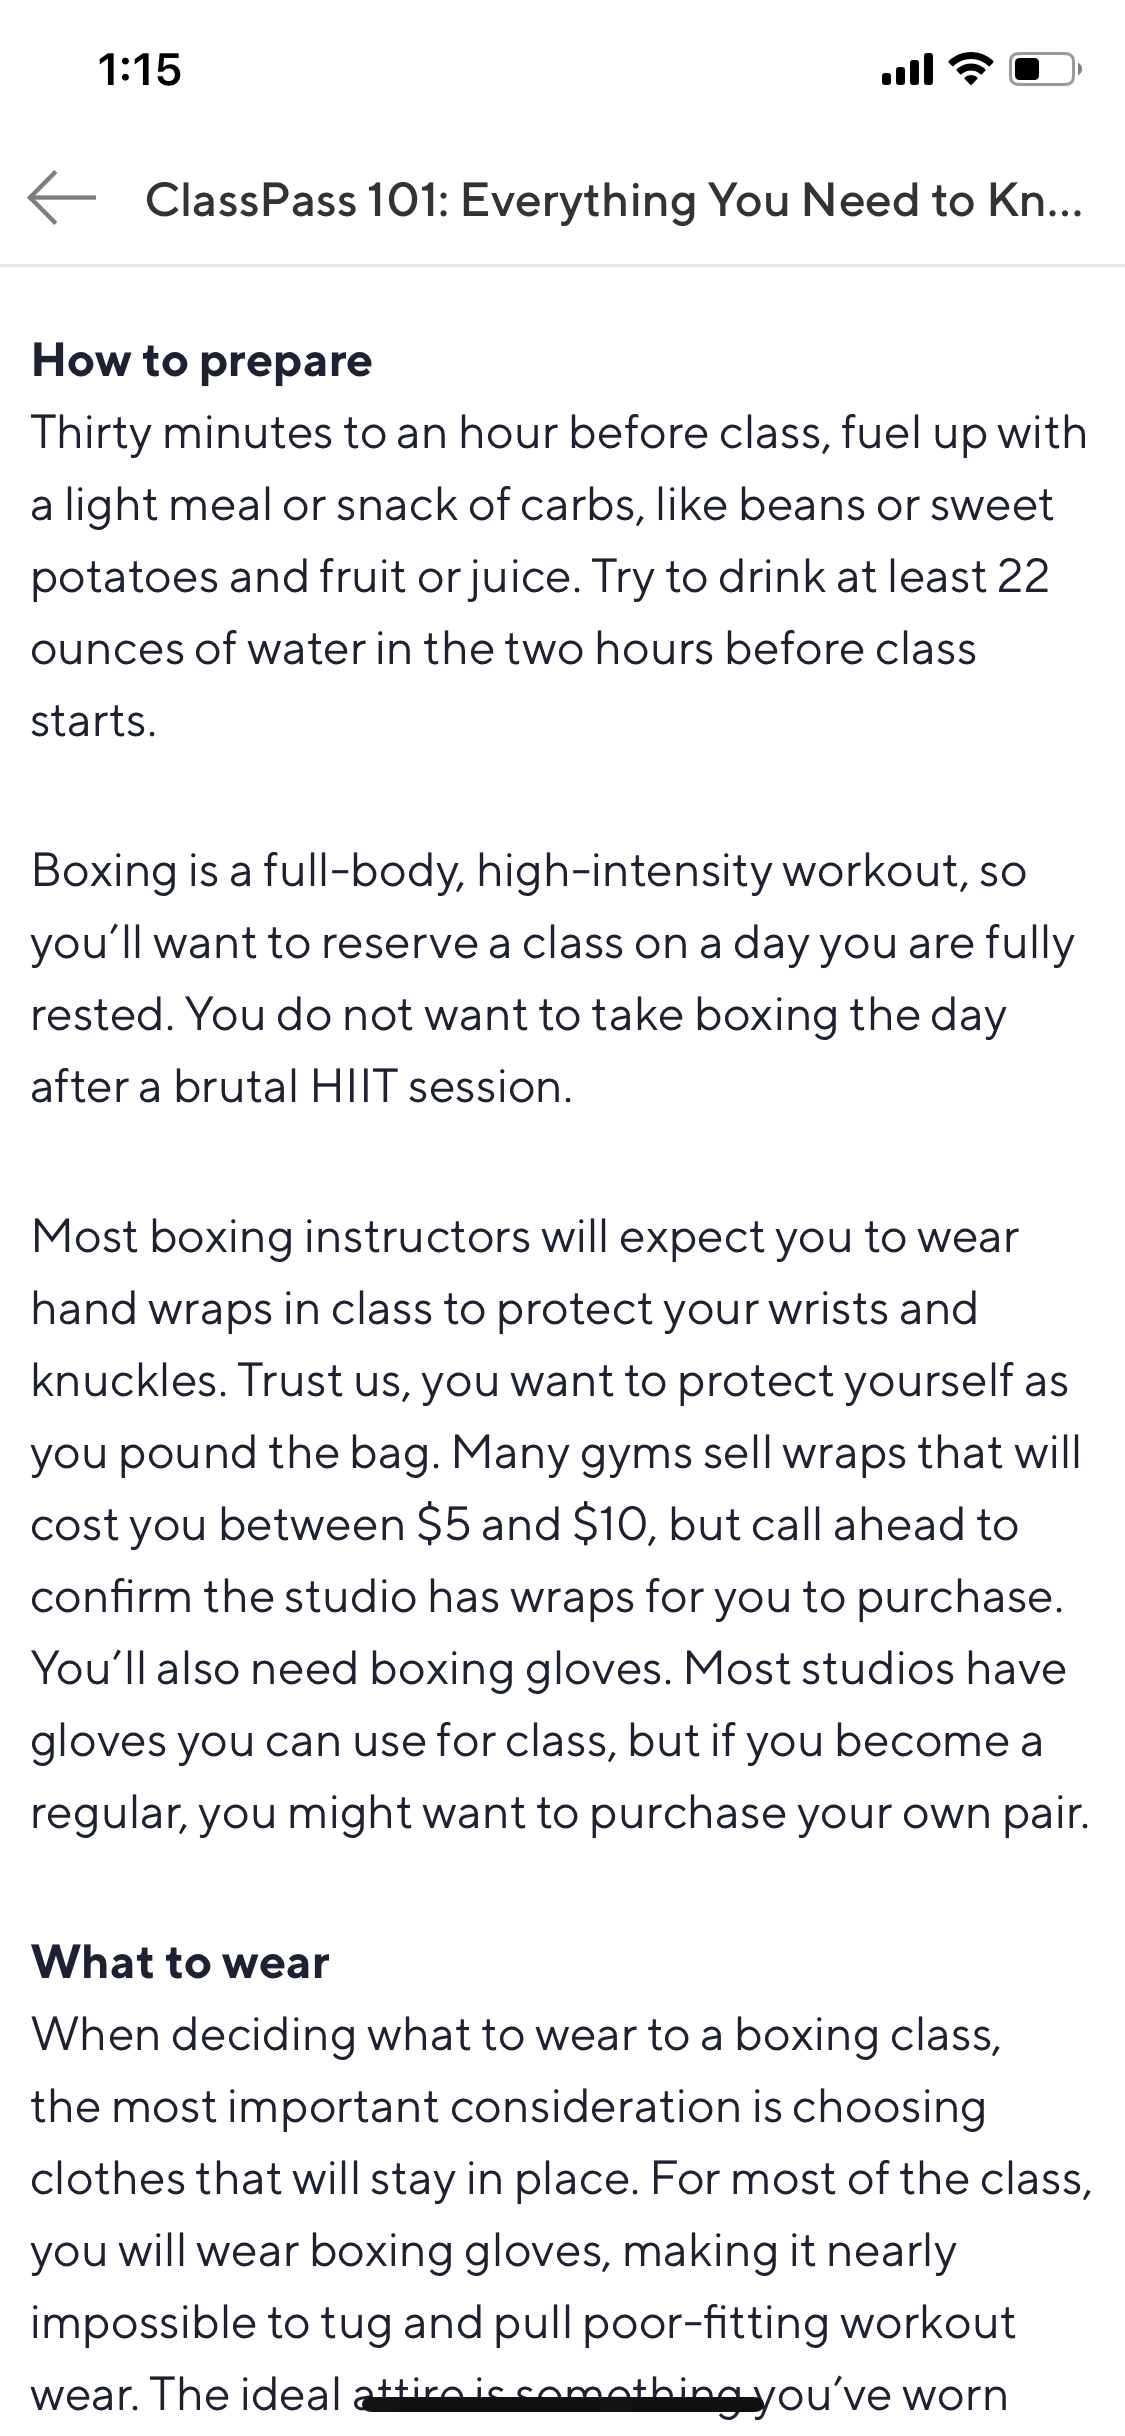Buttons: (19, 143, 117, 244)
